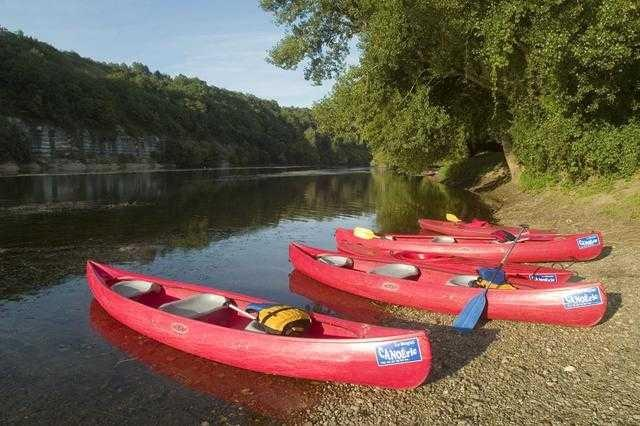kayak: (86, 258, 433, 391), (288, 240, 609, 333), (336, 224, 602, 267), (415, 218, 602, 249)
